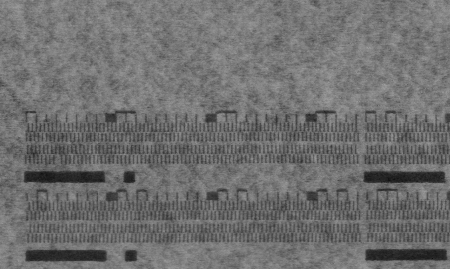Broken hole: (51, 154, 65, 166)
